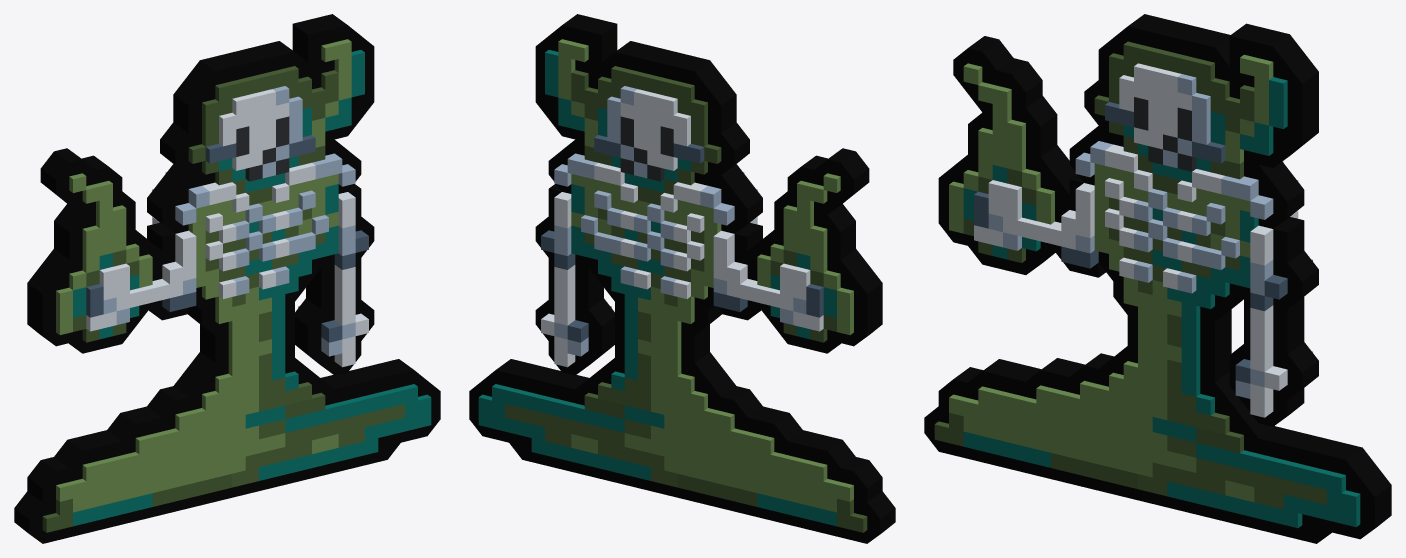
File: final final skelly w border USE THIS ONE.glb
3 views of the same model, side by side, from view 1: azimuth 30°, elevation 25°; view 2: azimuth 150°, elevation 25°; view 3: azimuth 330°, elevation 25° (orthographic). The views are drawn at different scales.
Visible parts, largest first — view 1: generated(Clone); view 2: generated(Clone); view 3: generated(Clone).
Boxes of the visible parts, <box> form: generated(Clone): <box>14,14,440,543</box>; generated(Clone): <box>469,14,895,543</box>; generated(Clone): <box>924,14,1391,543</box>.
Bounding box in the file's own units: 31 × 32 × 4.
